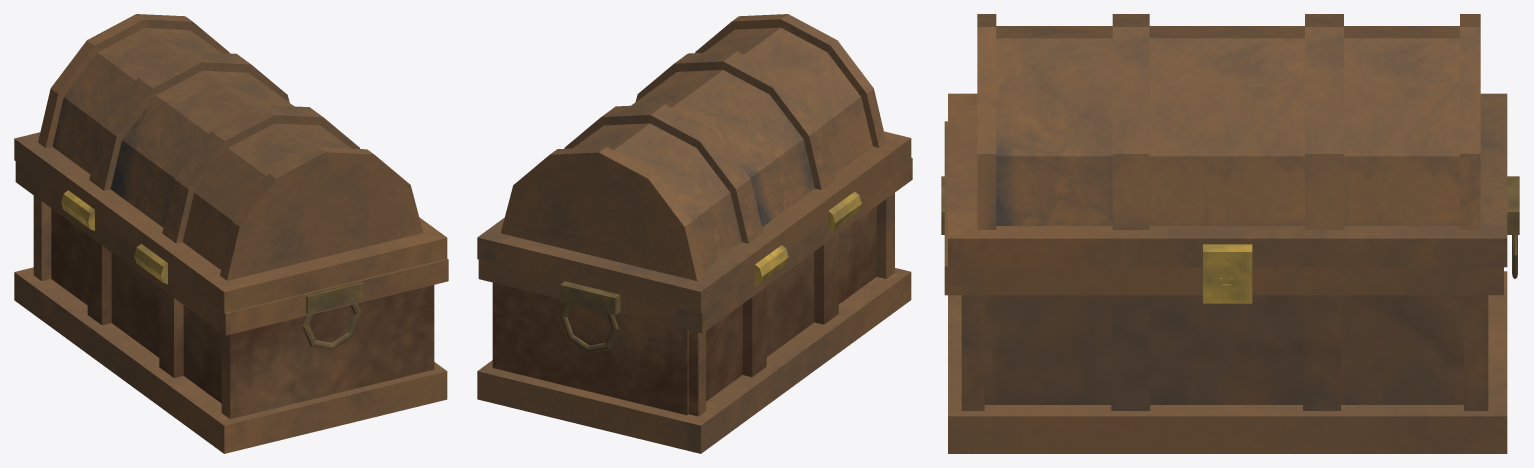
File: TreasureChestOpen_Animation_v2.fbx
The picture shows the model from 3 angles, left to right: view 1: azimuth 30°, elevation 25°; view 2: azimuth 150°, elevation 25°; view 3: azimuth 270°, elevation 25°; orthographic projection. The views are drawn at different scales.
Visible parts, largest first — view 1: LidTop, Sides, Bottom, LidBotom, Middle, HandleTopR, HandleBottomR, HingeL, HingeR; view 2: LidTop, Sides, Bottom, LidBotom, Middle, HandleTopL, HandleBottomL, HingeR, HingeL; view 3: LidTop, Sides, Bottom, LidBotom, Middle, Lock, HandleTopL.
Part boxes in pixels (left/top/right/bottom): LidTop: left=38, top=14, right=423, bottom=280; Sides: left=33, top=195, right=434, bottom=419; Bottom: left=14, top=267, right=447, bottom=453; LidBotom: left=14, top=132, right=447, bottom=313; Middle: left=15, top=161, right=448, bottom=335; HandleTopR: left=306, top=282, right=362, bottom=313; HandleBottomR: left=302, top=303, right=361, bottom=350; HingeL: left=61, top=190, right=94, bottom=230; HingeR: left=134, top=243, right=167, bottom=284; LidTop: left=500, top=14, right=886, bottom=280; Sides: left=492, top=193, right=894, bottom=416; Bottom: left=477, top=268, right=911, bottom=453; LidBotom: left=477, top=131, right=911, bottom=313; Middle: left=478, top=157, right=912, bottom=333; HandleTopL: left=560, top=281, right=620, bottom=315; HandleBottomL: left=560, top=303, right=618, bottom=352; HingeR: left=828, top=191, right=861, bottom=231; HingeL: left=755, top=245, right=788, bottom=285; LidTop: left=977, top=14, right=1480, bottom=229; Sides: left=961, top=295, right=1488, bottom=410; Bottom: left=948, top=271, right=1507, bottom=453; LidBotom: left=948, top=93, right=1507, bottom=267; Middle: left=944, top=121, right=1503, bottom=295; Lock: left=1203, top=244, right=1252, bottom=303; HandleTopL: left=1507, top=176, right=1519, bottom=234.
Bounding box in the file's own units: 14.68 × 15.42 × 22.79.
